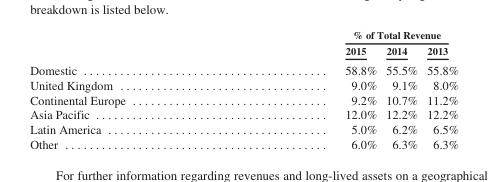table: (29, 28, 457, 150)
table column: (29, 28, 234, 150), (234, 28, 380, 150), (380, 28, 421, 150), (421, 28, 457, 150)
table column header: (29, 28, 457, 59)
table row: (29, 59, 457, 77), (29, 42, 457, 59), (29, 77, 457, 92), (29, 106, 457, 121), (29, 121, 457, 136), (29, 28, 457, 42), (29, 92, 457, 106), (29, 136, 457, 150)
table spanning cell: (234, 28, 457, 42)
